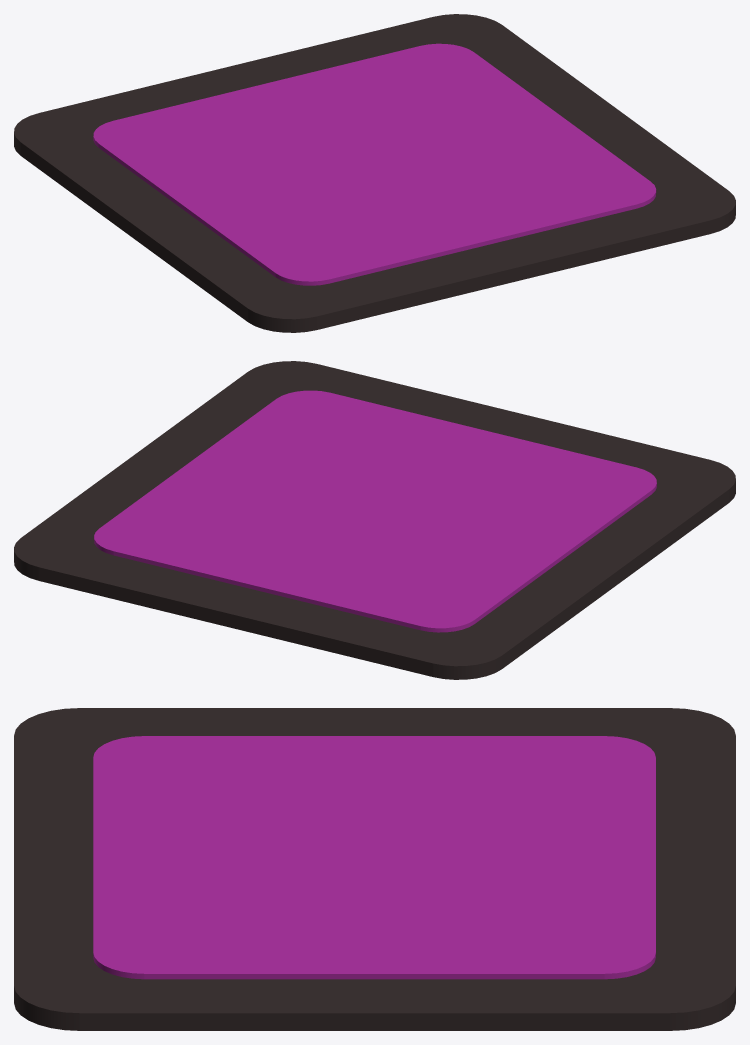
File: merge_plane.FBX
3 renders of one model, top to bottom at view 1: azimuth 30°, elevation 25°; view 2: azimuth 150°, elevation 25°; view 3: azimuth 270°, elevation 25°, orthographic. The views are drawn at different scales.
Visible parts, largest first — view 1: merge_plane; view 2: merge_plane; view 3: merge_plane.
Part boxes in pixels (box(x1,y1,x2,y2)): merge_plane: box(14, 14, 735, 332); merge_plane: box(14, 361, 735, 679); merge_plane: box(14, 708, 735, 1030).
Bounding box in the file's own units: 1.52 × 0.0541 × 1.52.
